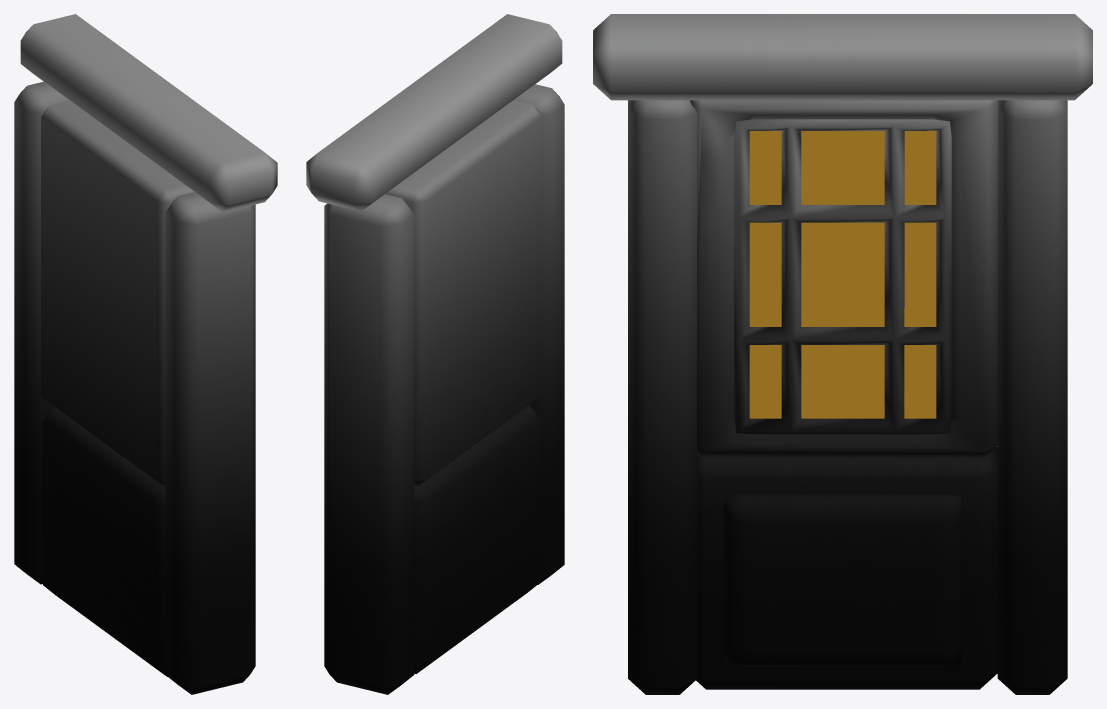
Rendered from SM_Brick_Door_02.fbx.
The picture shows the model from 3 angles, left to right: view 1: azimuth 30°, elevation 25°; view 2: azimuth 150°, elevation 25°; view 3: azimuth 270°, elevation 25°; orthographic projection. The views are drawn at different scales.
Parts seen in each view (by area): view 1: SM_Brick_Door_02; view 2: SM_Brick_Door_02; view 3: SM_Brick_Door_02.
Part boxes in pixels (<box>): SM_Brick_Door_02: <box>14,14,277,694</box>; SM_Brick_Door_02: <box>306,14,564,694</box>; SM_Brick_Door_02: <box>593,14,1092,694</box>.
Size of the model in its own units: 0.0958 by 0.5842 by 0.4009.
